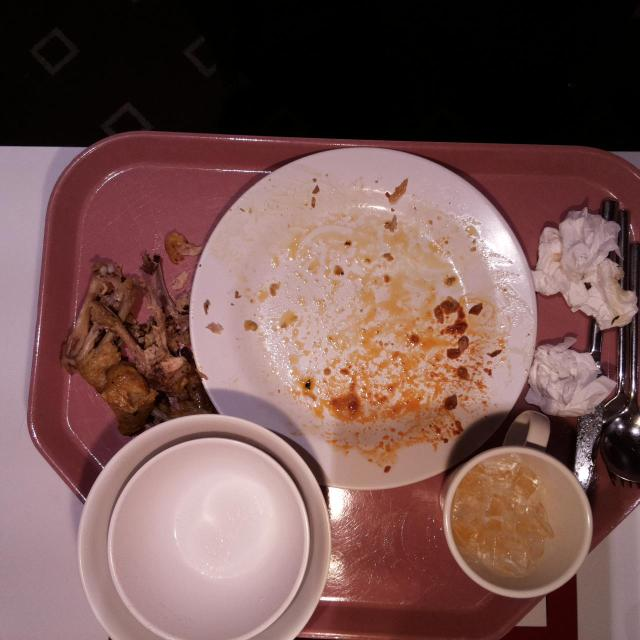Bone: (58, 258, 120, 364), (129, 242, 190, 323), (90, 302, 152, 376)
